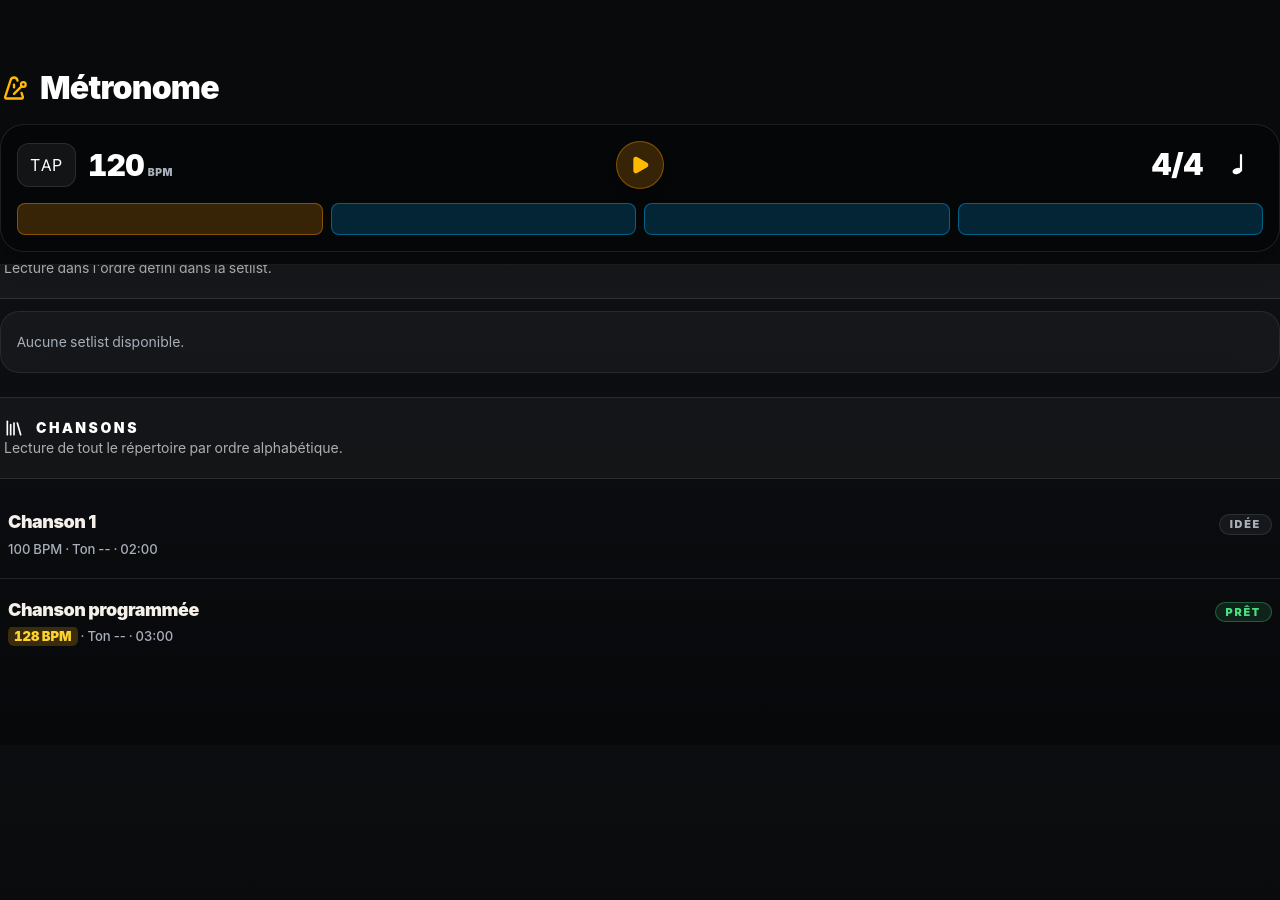
Test case: MetronomePage - Morceaux programmés › lance le métronome programmé sous le contrôleur au lieu d’ouvrir la page live
This screenshot has width=1280, height=900.
Click the button with aria-label "Lancer le métronome programmé de Chanson programmée": coordinates (103, 609) 0,579 -> 1279,665
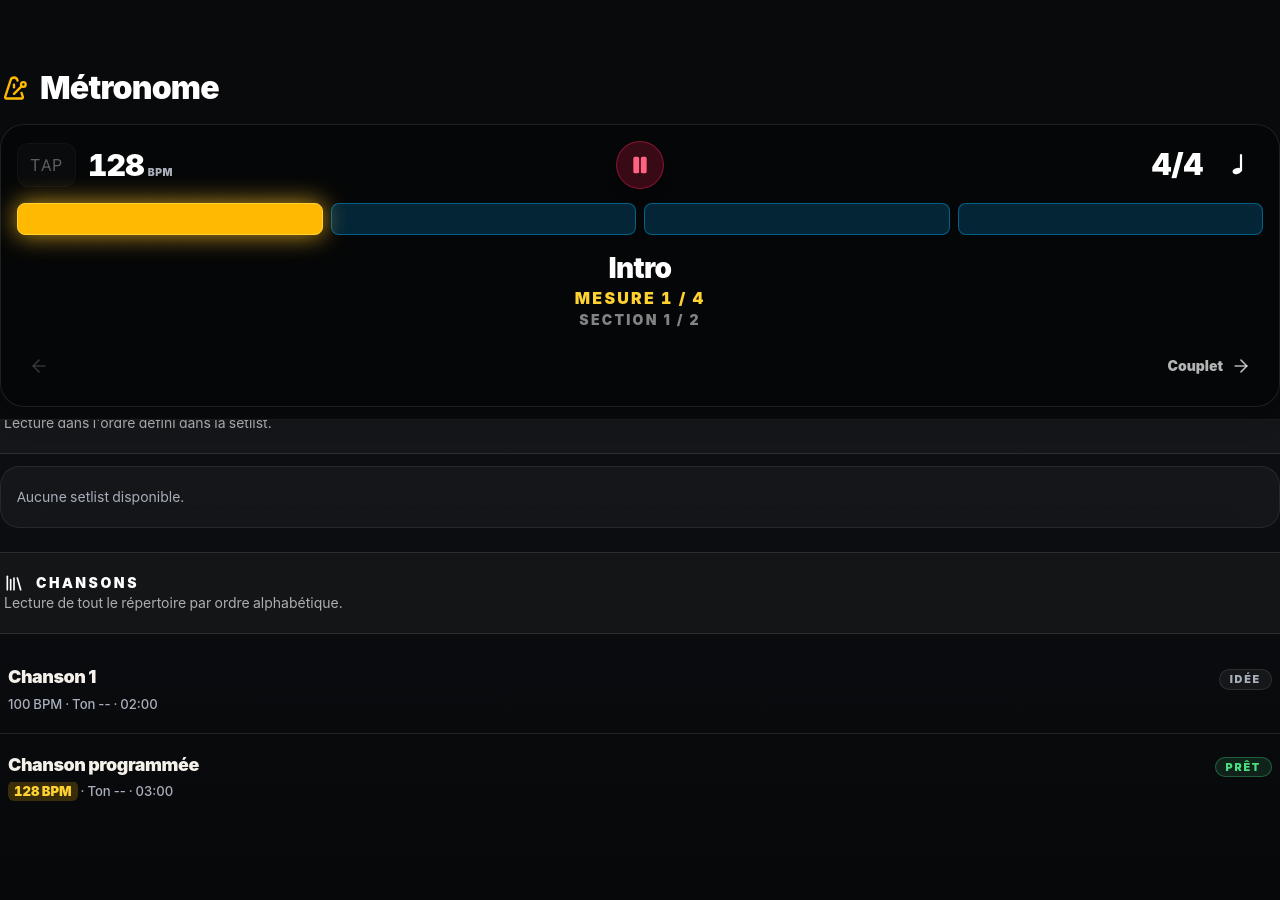
expect the element named "Sections du métronome programmé" is shown: met, box 17,251 -> 1263,390
expect the text "Section 1 / 2" is shown: met, box 579,311 -> 701,328
expect the text "Mesure 1 / 4" is shown: met, box 575,288 -> 705,308
